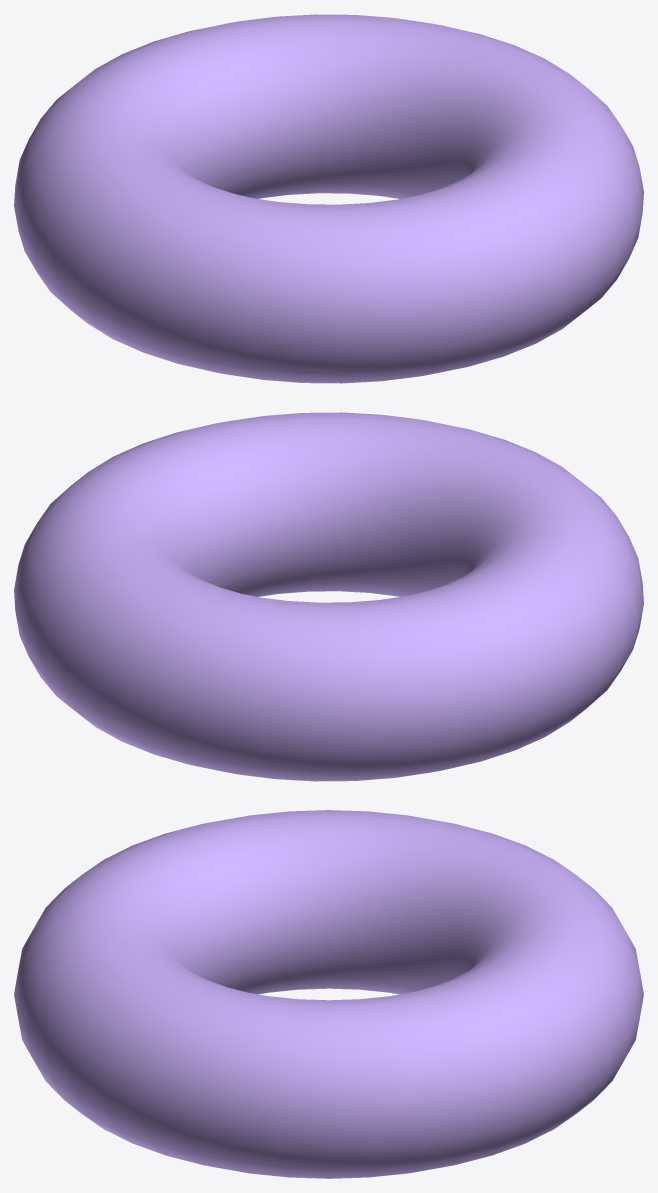
The picture shows the model from 3 angles, top to bottom: view 1: azimuth 30°, elevation 25°; view 2: azimuth 150°, elevation 25°; view 3: azimuth 270°, elevation 25°; orthographic projection.
Parts seen in each view (by area): view 1: Torus; view 2: Torus; view 3: Torus.
Part boxes in pixels (left/top/right/bottom): Torus: left=14, top=14, right=643, bottom=383; Torus: left=14, top=412, right=643, bottom=781; Torus: left=14, top=810, right=643, bottom=1178.
Bounding box in the file's own units: 1.4 × 0.4 × 1.4.
